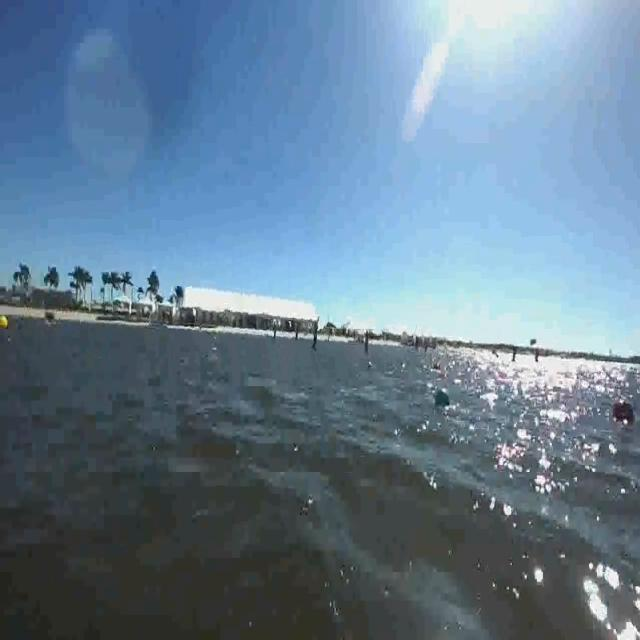green-buoy: (433, 382, 450, 407)
red-buoy: (613, 396, 636, 428)
yellow-buoy: (0, 313, 10, 330)
